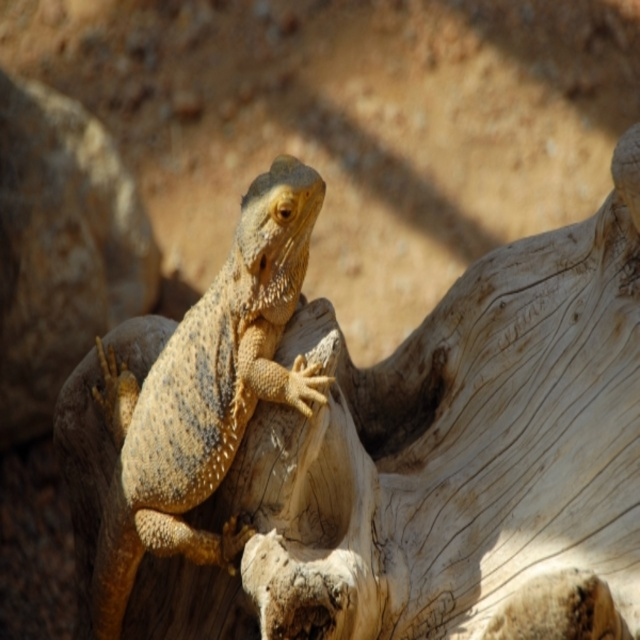Lizard: (64, 142, 340, 640)
